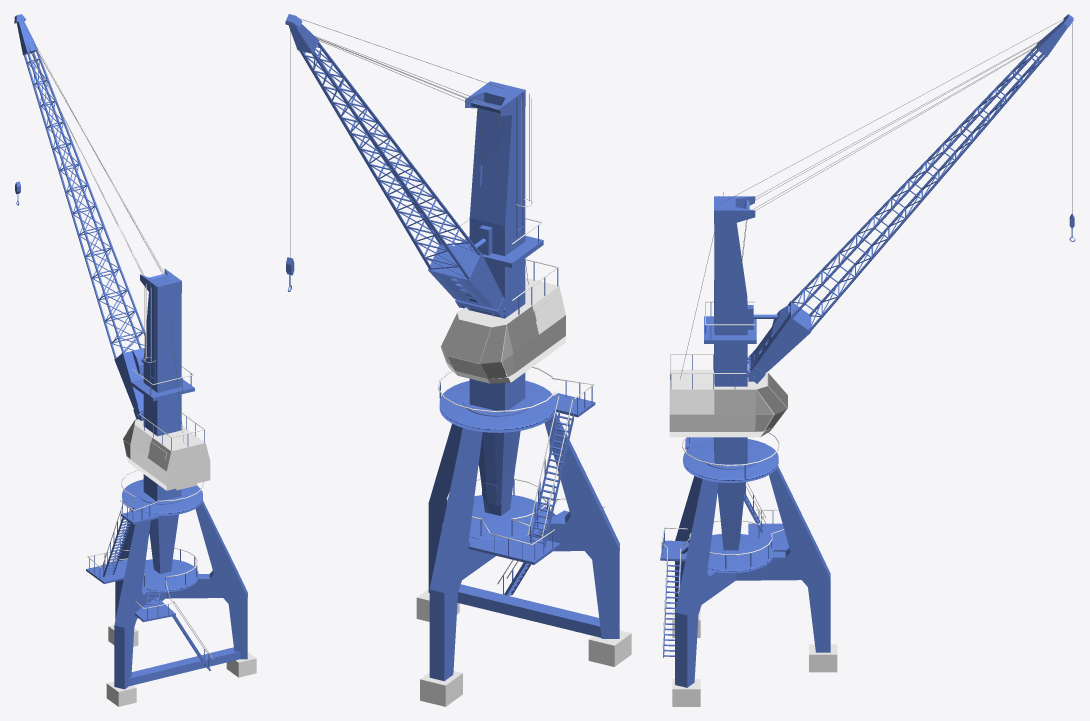
The model's file is Crane.glb.
3 views of the same model, side by side, from view 1: azimuth 30°, elevation 25°; view 2: azimuth 150°, elevation 25°; view 3: azimuth 270°, elevation 25° (orthographic). The views are drawn at different scales.
Visible parts, largest first — view 1: Повротный, Цилиндр012, Куб001, Куб032, Куб003, Куб, Коуг_2, круг_1, Низ, Цилиндр003, Верхушка, Куб031 (+4 smaller); view 2: Повротный, Куб002, Цилиндр012, Куб003, Куб001, Куб004, Цилиндр003, Коуг_2, Куб, Низ, круг_1, Куб032 (+9 smaller); view 3: Повротный, Цилиндр012, Куб001, Куб002, Куб032, Коуг_2, Цилиндр003, круг_1, Низ, Куб004, Верхушка, Куб003 (+2 smaller).
Boxes of the visible parts, x1=… form: Повротный: x1=143, y1=292, x2=181, y2=573; Цилиндр012: x1=23, y1=49, x2=145, y2=358; Куб001: x1=123, y1=419, x2=210, y2=490; Куб032: x1=165, y1=500, x2=247, y2=659; Куб003: x1=114, y1=520, x2=165, y2=689; Куб: x1=128, y1=647, x2=240, y2=686; Коуг_2: x1=122, y1=479, x2=202, y2=515; круг_1: x1=142, y1=559, x2=198, y2=592; Низ: x1=106, y1=625, x2=256, y2=706; Цилиндр003: x1=114, y1=348, x2=144, y2=419; Верхушка: x1=140, y1=268, x2=181, y2=298; Куб031: x1=130, y1=378, x2=194, y2=401; Повротный: x1=469, y1=107, x2=525, y2=515; Куб002: x1=429, y1=428, x2=495, y2=681; Цилиндр012: x1=299, y1=42, x2=480, y2=279; Куб003: x1=533, y1=412, x2=619, y2=638; Куб001: x1=441, y1=277, x2=565, y2=383; Куб004: x1=441, y1=313, x2=513, y2=378; Цилиндр003: x1=428, y1=245, x2=508, y2=318; Коуг_2: x1=439, y1=380, x2=555, y2=432; Куб: x1=457, y1=584, x2=601, y2=637; Низ: x1=416, y1=589, x2=631, y2=706; круг_1: x1=469, y1=495, x2=548, y2=539; Куб032: x1=428, y1=423, x2=462, y2=592; Повротный: x1=714, y1=223, x2=747, y2=550; Цилиндр012: x1=791, y1=45, x2=1046, y2=331; Куб001: x1=669, y1=369, x2=787, y2=437; Куб002: x1=735, y1=466, x2=830, y2=652; Куб032: x1=675, y1=479, x2=735, y2=687; Коуг_2: x1=683, y1=439, x2=778, y2=482; Цилиндр003: x1=747, y1=301, x2=811, y2=383; круг_1: x1=707, y1=534, x2=773, y2=573; Низ: x1=672, y1=610, x2=837, y2=706; Куб004: x1=755, y1=373, x2=787, y2=431; Верхушка: x1=714, y1=196, x2=755, y2=224; Куб003: x1=675, y1=476, x2=712, y2=610.
Bounding box in the file's own units: 12.11 × 46.33 × 26.77.
